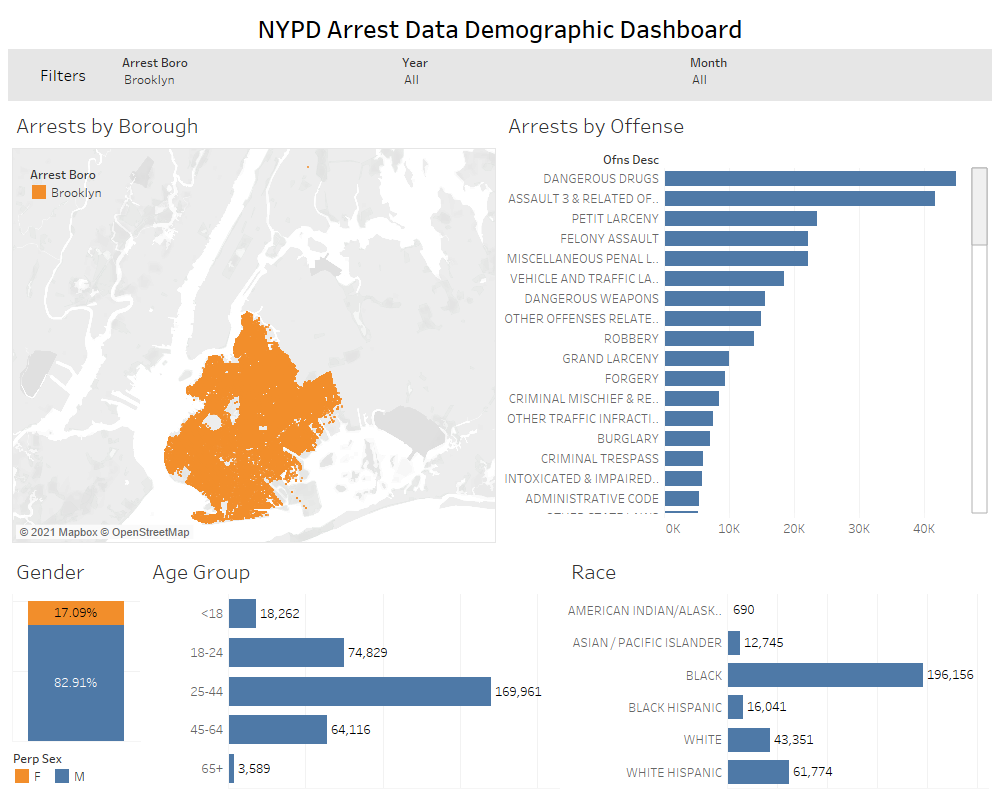

The page's visual inventory and layout, read from the dashboard file:
{"tool":"tableau","page":{"name":"NYPD Arrest Data Demographic Dashboard","canvas":[1000,800],"ordinal":0},"visuals":[{"type":"title","box":[8,8,984,41]},{"type":"text","box":[8,49,110,52]},{"type":"filter","title":"Arrests by Offense Type","param":"[federated.0u0g2jr0y9b0lh1fggo9v036ljvq].[none:ARREST_BORO:nk]","box":[118,49,280,52]},{"type":"filter","title":"Arrests by Offense Type","param":"[federated.0u0g2jr0y9b0lh1fggo9v036ljvq].[yr:ARREST_DATE:ok]","box":[398,49,288,52]},{"type":"filter","title":"Arrests by Offense Type","param":"[federated.0u0g2jr0y9b0lh1fggo9v036ljvq].[mn:ARREST_DATE:ok]","box":[686,49,306,52]},{"type":"worksheet","title":"Arrests by Borough","mark":"Automatic","rows":["Latitude"],"cols":["Longitude"],"box":[8,101,492,445.8]},{"type":"worksheet","title":"Arrests by Offense Type","mark":"Automatic","rows":["OFNS_DESC"],"cols":["ARREST_DATE"],"box":[500,101,492,445.8]},{"type":"legend","title":"Arrests by Borough","param":"[federated.0u0g2jr0y9b0lh1fggo9v036ljvq].[none:ARREST_BORO:nk]","box":[29,164,140,118]},{"type":"worksheet","title":"Gender","mark":"Automatic","rows":["ARREST_DATE"],"box":[8,546.8,136,197.5]},{"type":"worksheet","title":"Age Group","mark":"Automatic","rows":["AGE_GROUP"],"cols":["ARREST_DATE"],"box":[144,546.8,419,245.2]},{"type":"worksheet","title":"Race","mark":"Automatic","rows":["PERP_RACE"],"cols":["ARREST_DATE"],"box":[563,546.8,429,245.2]},{"type":"legend","title":"Gender","param":"[federated.0u0g2jr0y9b0lh1fggo9v036ljvq].[none:PERP_SEX:nk]","box":[8,744.4,136,47.6]}]}

Visuals, with their boxes in screenshot pixels (x1, y1, x2, y2), scaled from the page's 1000x800 canvas onto the 1000x800 screenshot:
title: {"left": 8, "top": 8, "right": 992, "bottom": 49}
text: {"left": 8, "top": 49, "right": 118, "bottom": 101}
"Arrests by Offense Type" filter: {"left": 118, "top": 49, "right": 398, "bottom": 101}
"Arrests by Offense Type" filter: {"left": 398, "top": 49, "right": 686, "bottom": 101}
"Arrests by Offense Type" filter: {"left": 686, "top": 49, "right": 992, "bottom": 101}
"Arrests by Borough" worksheet: {"left": 8, "top": 101, "right": 500, "bottom": 547}
"Arrests by Offense Type" worksheet: {"left": 500, "top": 101, "right": 992, "bottom": 547}
"Arrests by Borough" legend: {"left": 29, "top": 164, "right": 169, "bottom": 282}
"Gender" worksheet: {"left": 8, "top": 547, "right": 144, "bottom": 744}
"Age Group" worksheet: {"left": 144, "top": 547, "right": 563, "bottom": 792}
"Race" worksheet: {"left": 563, "top": 547, "right": 992, "bottom": 792}
"Gender" legend: {"left": 8, "top": 744, "right": 144, "bottom": 792}
